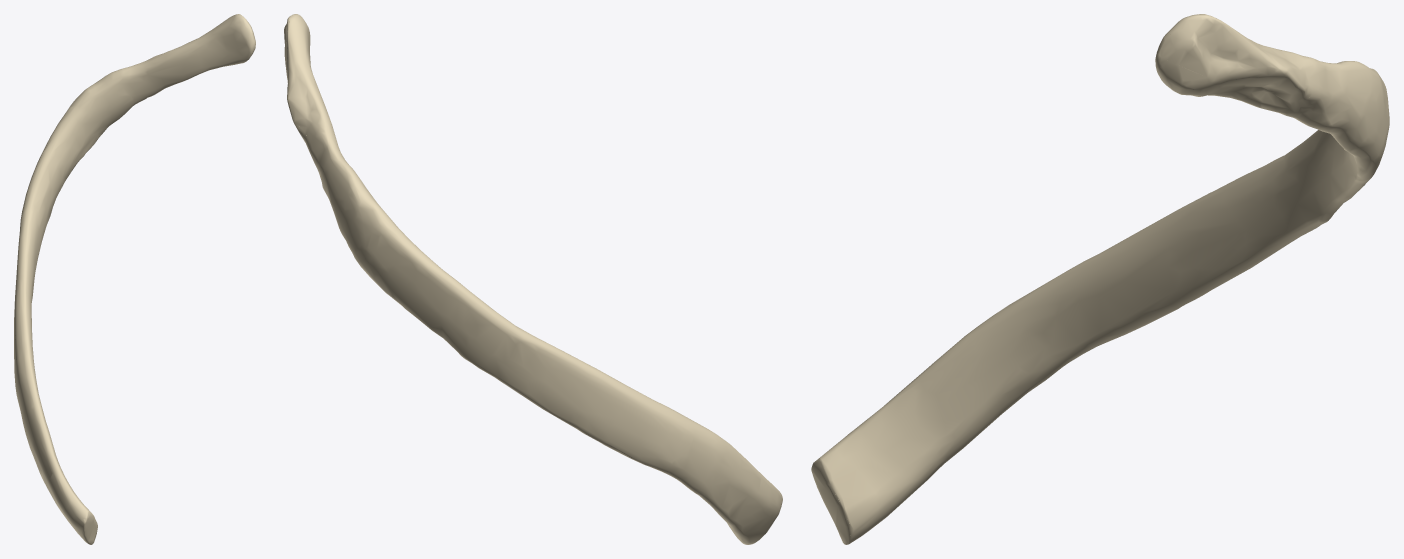
Rendered from esqueleto-tenth-rib-r.glb.
3 renders of one model, left to right at view 1: azimuth 30°, elevation 25°; view 2: azimuth 150°, elevation 25°; view 3: azimuth 270°, elevation 25°, orthographic. The views are drawn at different scales.
Parts seen in each view (by area): view 1: Tenth rib.r; view 2: Tenth rib.r; view 3: Tenth rib.r.
Boxes of the visible parts, box(x1,y1,x2,y2) form: Tenth rib.r: box(14, 14, 255, 544); Tenth rib.r: box(284, 14, 782, 544); Tenth rib.r: box(811, 14, 1389, 544).
Size of the model in its own units: 0.1129 by 0.1568 by 0.1094.
